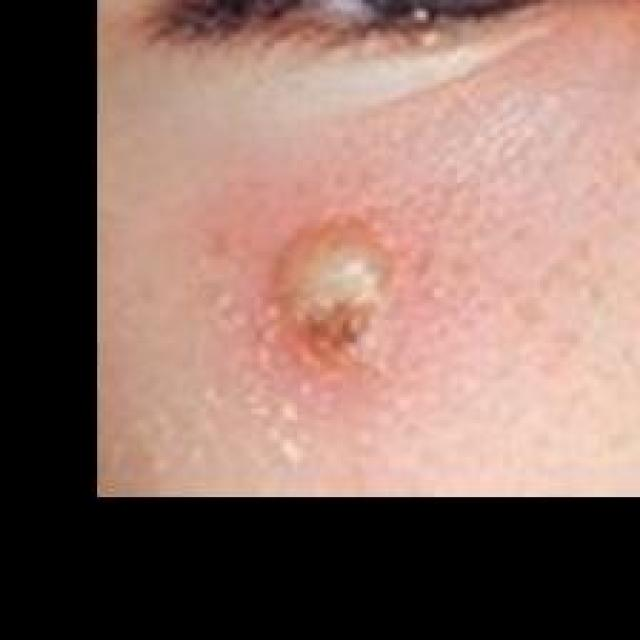others: (87, 0, 639, 509)
